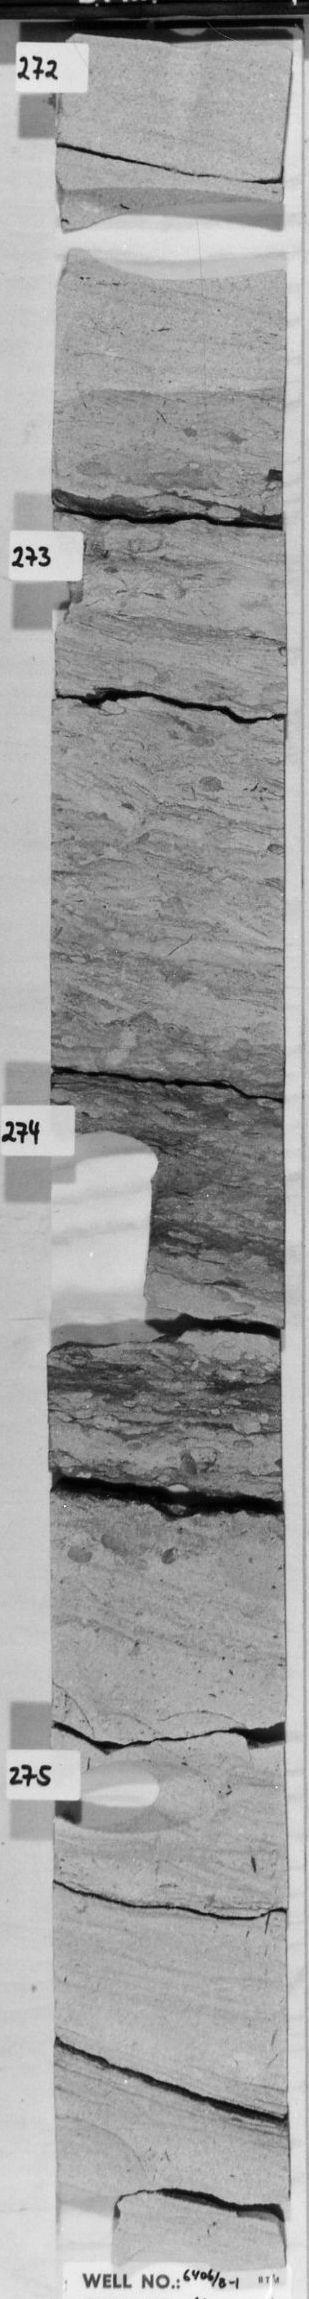hplug: (56, 1757, 243, 1850), (60, 1113, 174, 1191)
scal: (63, 174, 287, 325)
vplug: (42, 1199, 170, 1365)
